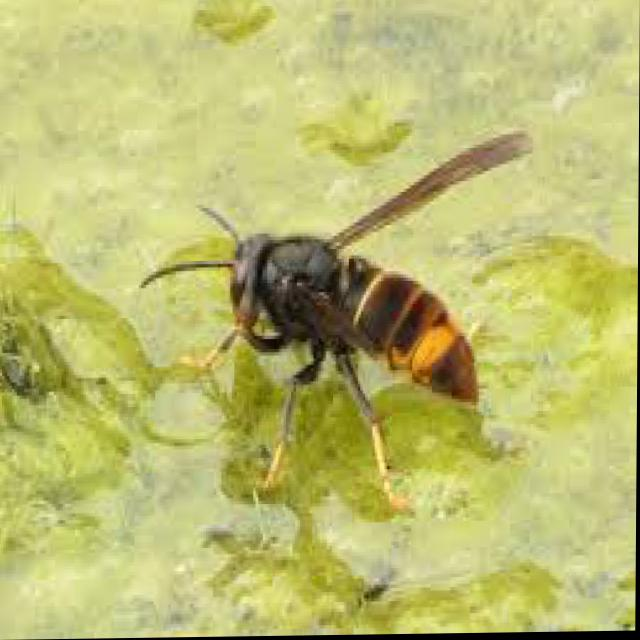Vespa Velutina: (131, 123, 541, 512)
